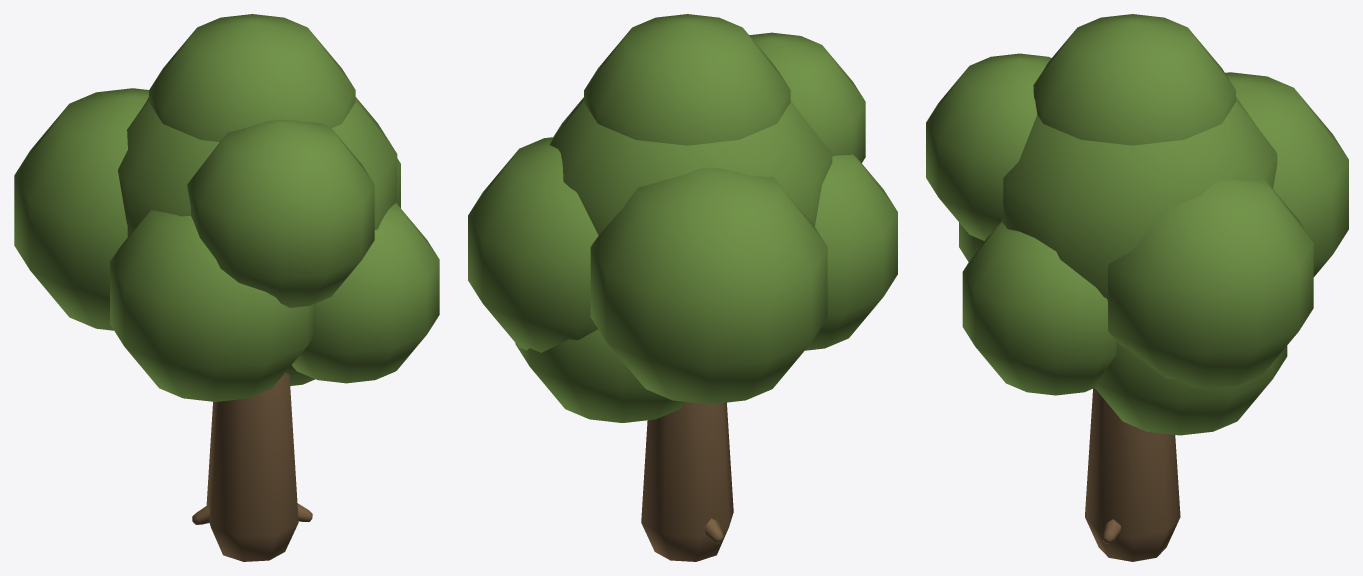
The model's file is prop_oak5_b9c5.glb.
The picture shows the model from 3 angles, left to right: view 1: azimuth 30°, elevation 25°; view 2: azimuth 150°, elevation 25°; view 3: azimuth 270°, elevation 25°; orthographic projection.
Parts seen in each view (by area): view 1: prop_oak5_b9c5; view 2: prop_oak5_b9c5; view 3: prop_oak5_b9c5.
Boxes of the visible parts, x1=… form: prop_oak5_b9c5: x1=14, y1=14, x2=439, y2=561; prop_oak5_b9c5: x1=468, y1=14, x2=897, y2=561; prop_oak5_b9c5: x1=926, y1=14, x2=1348, y2=561.
Bounding box in the file's own units: 1.46 × 2.19 × 1.56.
1 material, 1 textured.
